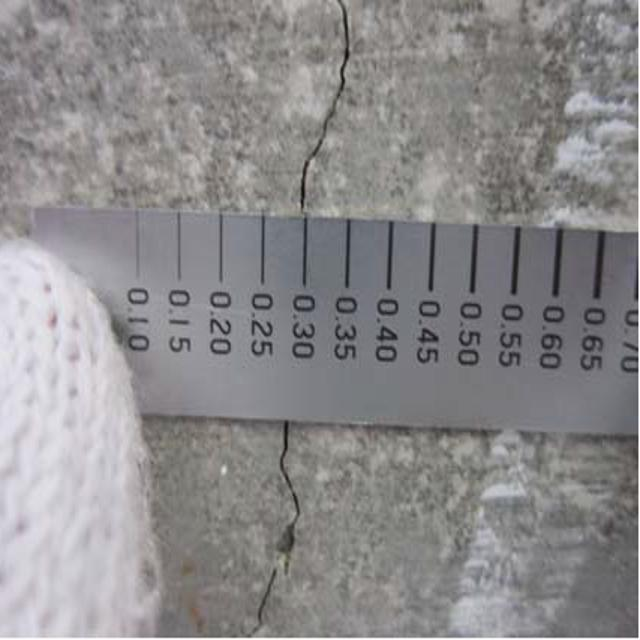crack: (237, 433, 326, 640), (287, 0, 364, 211)
